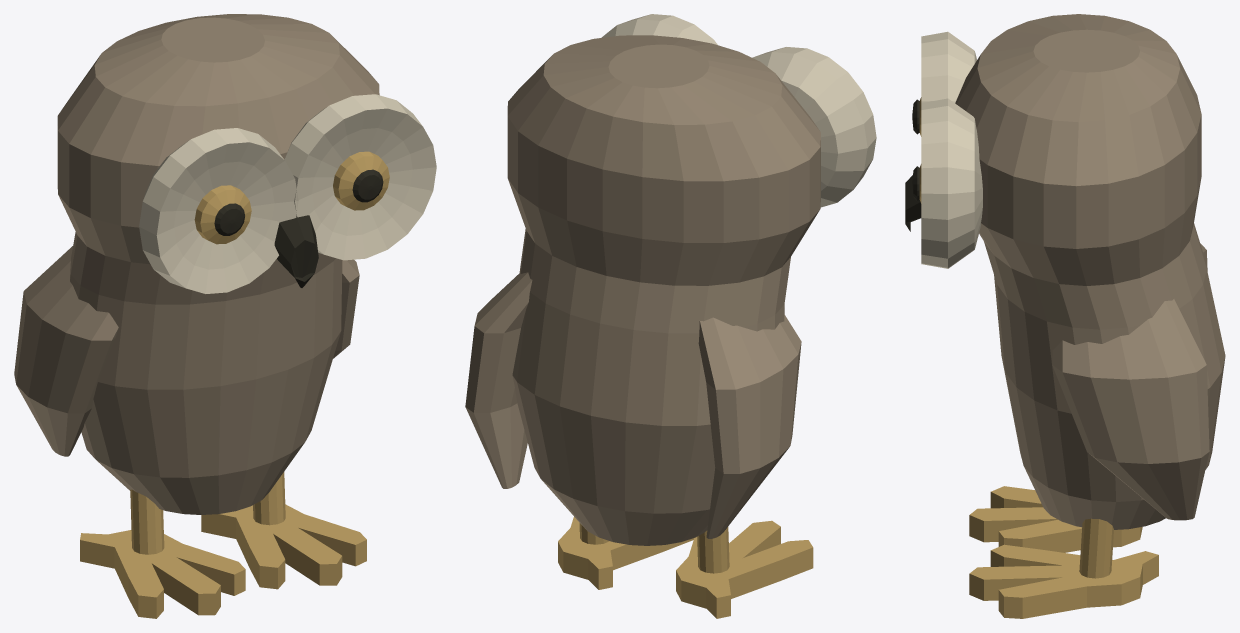
3 renders of one model, left to right at view 1: azimuth 30°, elevation 25°; view 2: azimuth 150°, elevation 25°; view 3: azimuth 270°, elevation 25°, orthographic. The views are drawn at different scales.
Parts seen in each view (by area): view 1: WholeUprightTorsoAndBroadShortNeckHead, WholeShallowRadialFacialDisc0, WholeShallowRadialFacialDisc1, WholeSideFoldedTaperedWing0, WholeCleftToeGroundFoot0, WholeCleftToeGroundFoot1, WholeShortDownturnedCentralBeak, WholeForwardGoldenEye0, WholeForwardGoldenEye1, WholeShortTalonLeg0, WholeSideFoldedTaperedWing1, WholeShortTalonLeg1 (+2 smaller); view 2: WholeUprightTorsoAndBroadShortNeckHead, WholeSideFoldedTaperedWing0, WholeSideFoldedTaperedWing1, WholeShallowRadialFacialDisc0, WholeCleftToeGroundFoot0, WholeCleftToeGroundFoot1, WholeShallowRadialFacialDisc1, WholeShortTalonLeg0; view 3: WholeUprightTorsoAndBroadShortNeckHead, WholeSideFoldedTaperedWing1, WholeCleftToeGroundFoot1, WholeShallowRadialFacialDisc1, WholeCleftToeGroundFoot0, WholeShallowRadialFacialDisc0, WholeShortTalonLeg1, WholeShortDownturnedCentralBeak.
Part boxes in pixels (x1,y1,x2,y2): WholeUprightTorsoAndBroadShortNeckHead: (57, 14, 379, 514); WholeShallowRadialFacialDisc0: (139, 128, 298, 293); WholeShallowRadialFacialDisc1: (284, 94, 436, 260); WholeSideFoldedTaperedWing0: (14, 246, 118, 456); WholeCleftToeGroundFoot0: (80, 530, 245, 618); WholeCleftToeGroundFoot1: (201, 504, 366, 589); WholeShortDownturnedCentralBeak: (274, 215, 318, 287); WholeForwardGoldenEye0: (194, 185, 251, 244); WholeForwardGoldenEye1: (333, 151, 389, 210); WholeShortTalonLeg0: (130, 489, 164, 554); WholeSideFoldedTaperedWing1: (333, 259, 359, 358); WholeShortTalonLeg1: (253, 472, 285, 525); WholeUprightTorsoAndBroadShortNeckHead: (507, 35, 820, 545); WholeSideFoldedTaperedWing0: (698, 314, 801, 538); WholeSideFoldedTaperedWing1: (465, 272, 532, 488); WholeShallowRadialFacialDisc0: (752, 47, 876, 207); WholeCleftToeGroundFoot0: (676, 520, 813, 618); WholeCleftToeGroundFoot1: (558, 517, 693, 589); WholeShallowRadialFacialDisc1: (601, 14, 717, 44); WholeShortTalonLeg0: (697, 527, 729, 573); WholeUprightTorsoAndBroadShortNeckHead: (955, 14, 1225, 529); WholeSideFoldedTaperedWing1: (1052, 299, 1209, 520); WholeCleftToeGroundFoot1: (969, 544, 1158, 618); WholeShallowRadialFacialDisc1: (921, 98, 982, 268); WholeCleftToeGroundFoot0: (969, 486, 1142, 552); WholeShallowRadialFacialDisc0: (921, 31, 976, 102); WholeShortTalonLeg1: (1079, 518, 1113, 578); WholeShortDownturnedCentralBeak: (905, 175, 921, 231).
Bounding box in the file's own units: 0.66 × 1.06 × 0.6.
